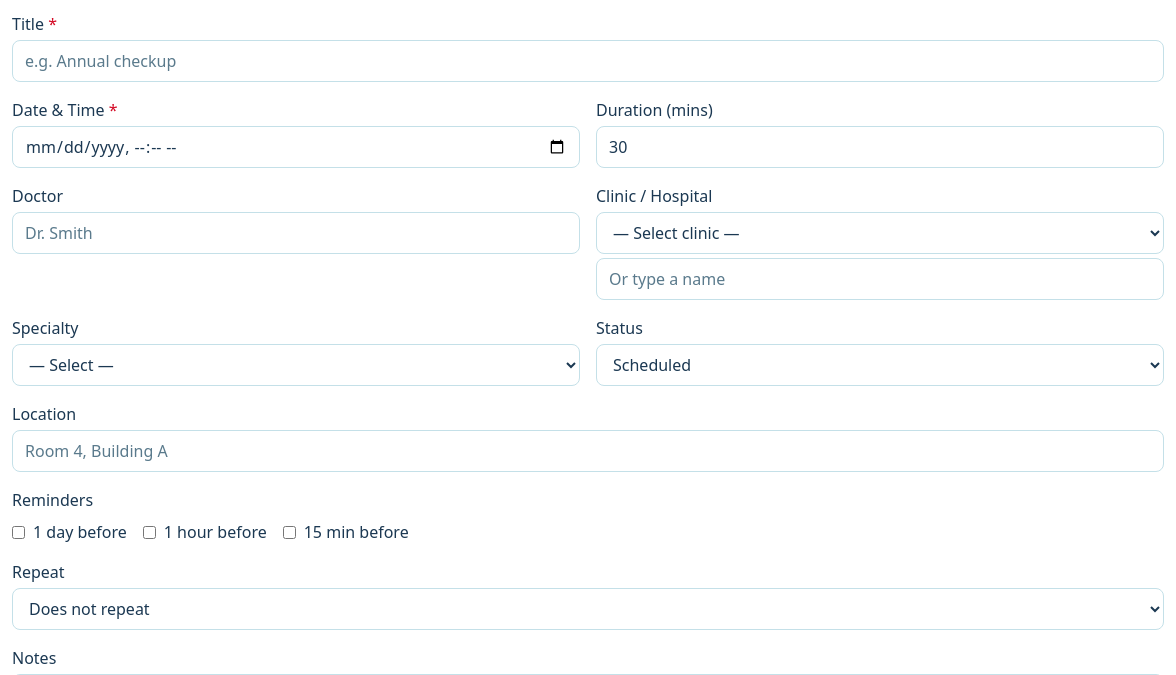
Test case: AppointmentForm › Repeat / Recurrence UI › hides interval fields when switching back to none
Select "Weekly" in the dropdown labelled "Repeat" at (588, 609), box x1=12 y1=588 x2=1164 y2=630
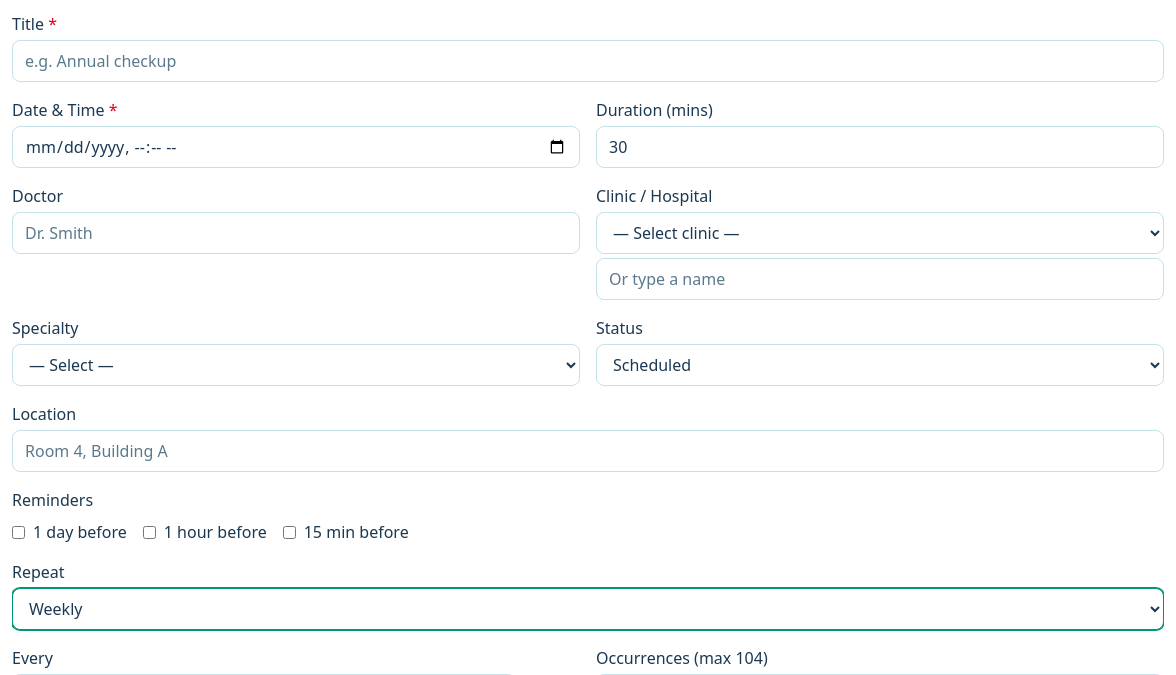
Select "Does not repeat" in the dropdown labelled "Repeat" at (588, 609), box x1=12 y1=588 x2=1164 y2=630
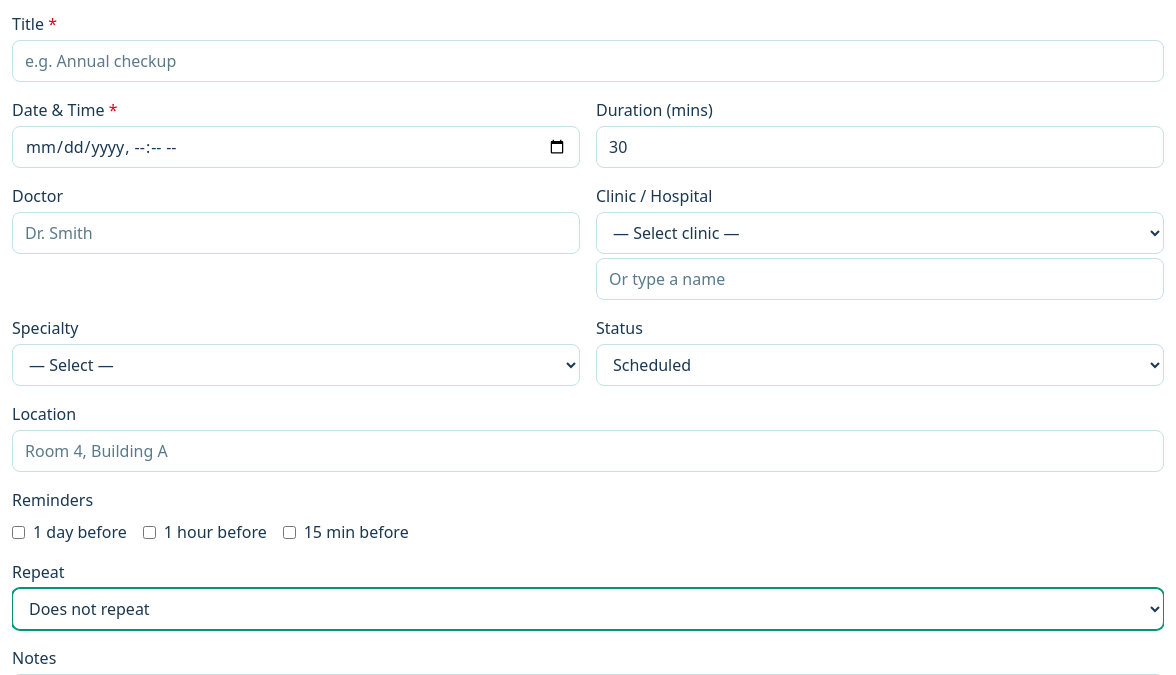
Now the label labelled "Every" is gone
